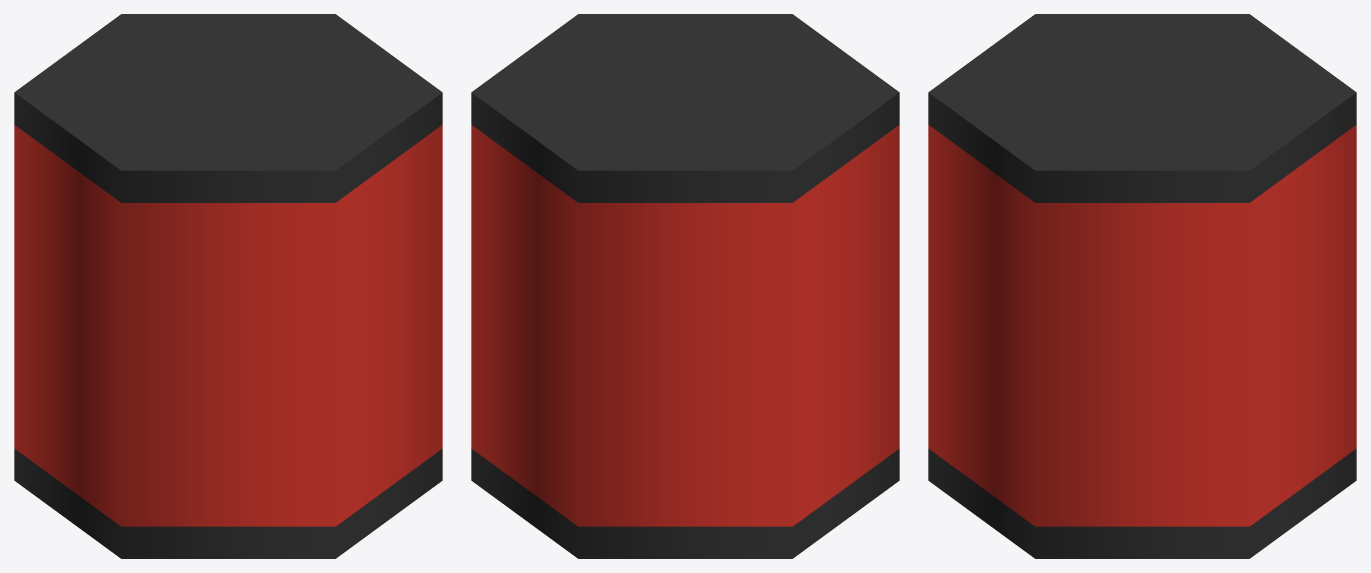
Rendered from Jar.fbx.
3 views of the same model, side by side, from view 1: azimuth 30°, elevation 25°; view 2: azimuth 150°, elevation 25°; view 3: azimuth 270°, elevation 25° (orthographic).
Parts seen in each view (by area): view 1: Cylinder.020; view 2: Cylinder.020; view 3: Cylinder.020.
Part boxes in pixels (left/top/right/bottom): Cylinder.020: left=14, top=14, right=442, bottom=558; Cylinder.020: left=471, top=14, right=899, bottom=558; Cylinder.020: left=928, top=14, right=1356, bottom=558.
Size of the model in its own units: 0.2024 by 0.2338 by 0.2338.
